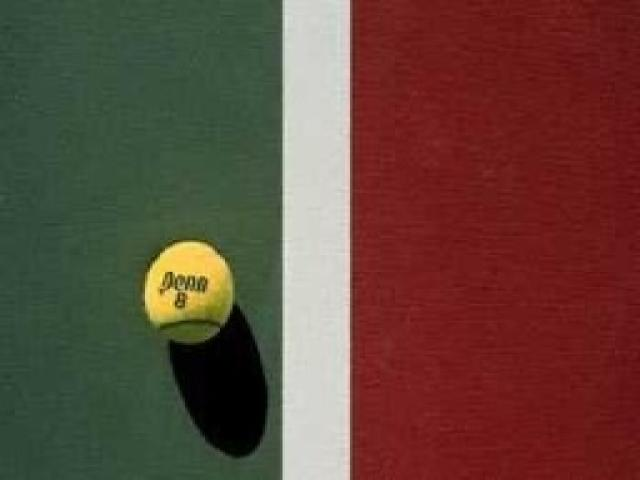tennis-ball: (144, 239, 236, 342)
